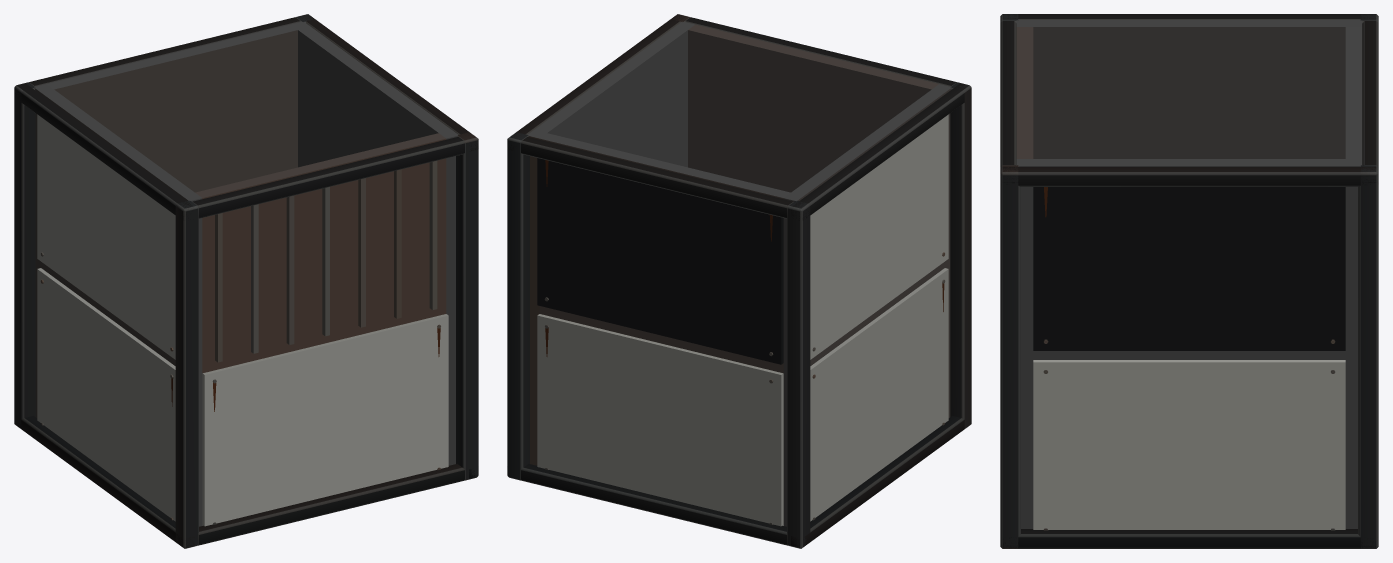
The model's file is chute_v_straight.glb.
The picture shows the model from 3 angles, left to right: view 1: azimuth 30°, elevation 25°; view 2: azimuth 150°, elevation 25°; view 3: azimuth 270°, elevation 25°; orthographic projection. The views are drawn at different scales.
Visible parts, largest first — view 1: Frame; view 2: Frame; view 3: Frame.
Boxes of the visible parts, x1=… form: Frame: x1=14, y1=14, x2=478, y2=548; Frame: x1=507, y1=14, x2=971, y2=548; Frame: x1=1000, y1=14, x2=1378, y2=548.
Bounding box in the file's own units: 1.82 × 2 × 1.82.
